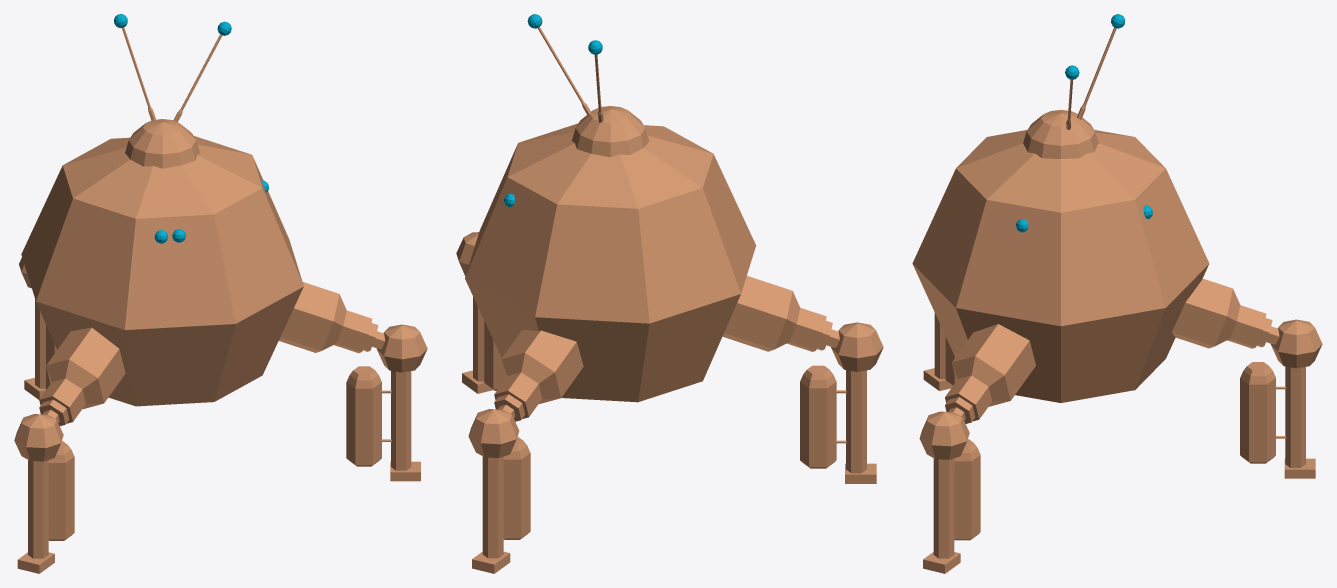
File: drone2.fbx
The picture shows the model from 3 angles, left to right: view 1: azimuth 30°, elevation 25°; view 2: azimuth 150°, elevation 25°; view 3: azimuth 270°, elevation 25°; orthographic projection. The views are drawn at different scales.
Parts seen in each view (by area): view 1: Sphere; view 2: Sphere; view 3: Sphere.
Part boxes in pixels (box(x1,y1,x2,y2)): Sphere: box(14, 14, 427, 573); Sphere: box(456, 14, 883, 573); Sphere: box(912, 14, 1322, 573).
Bounding box in the file's own units: 321 × 336 × 276.
